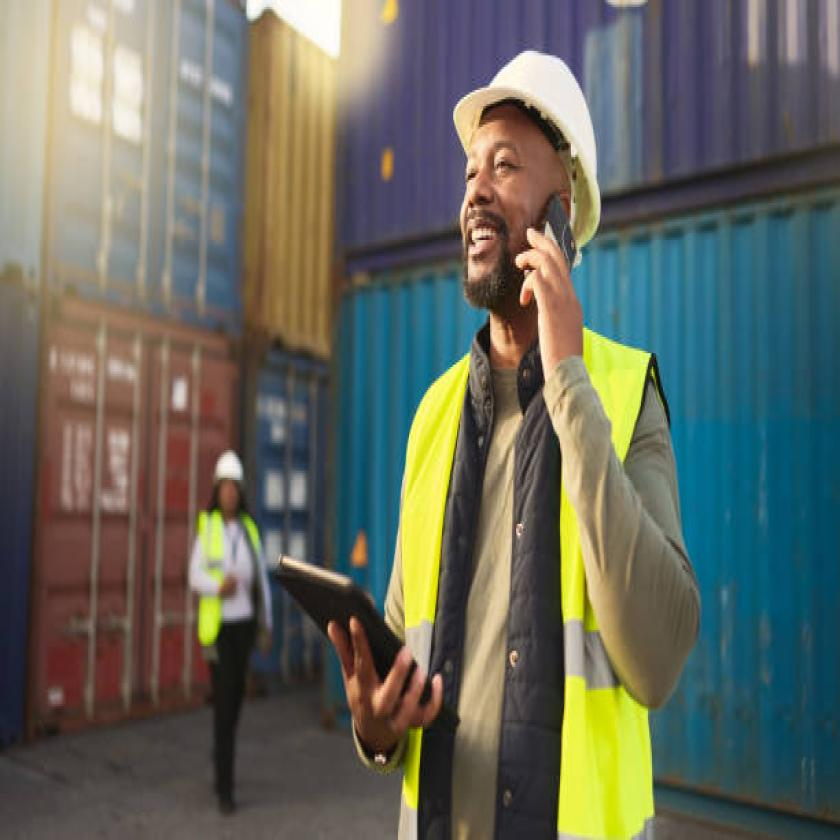Con_casco: (446, 41, 606, 346)
